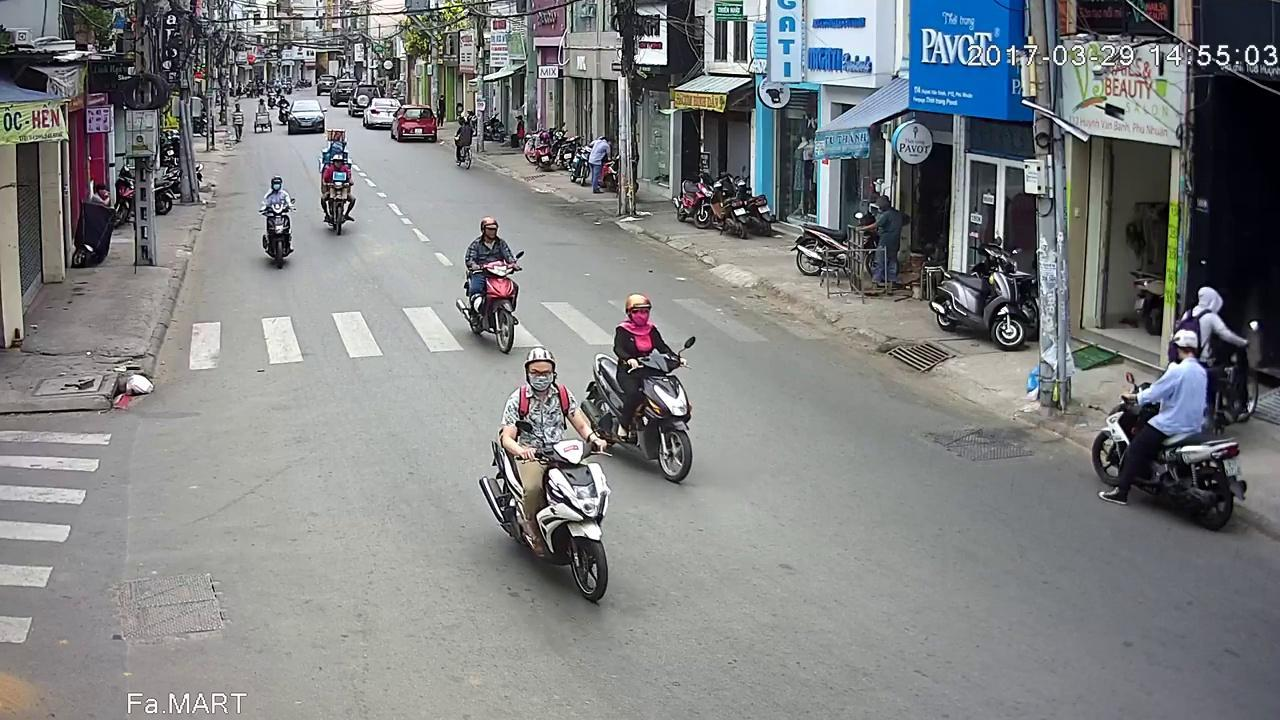xe dap: (455, 115, 475, 170)
xe hoi: (394, 104, 441, 143)
xe may: (488, 358, 623, 613), (1085, 327, 1242, 529), (588, 293, 705, 484), (459, 215, 529, 354), (258, 176, 295, 269), (320, 153, 357, 236)
